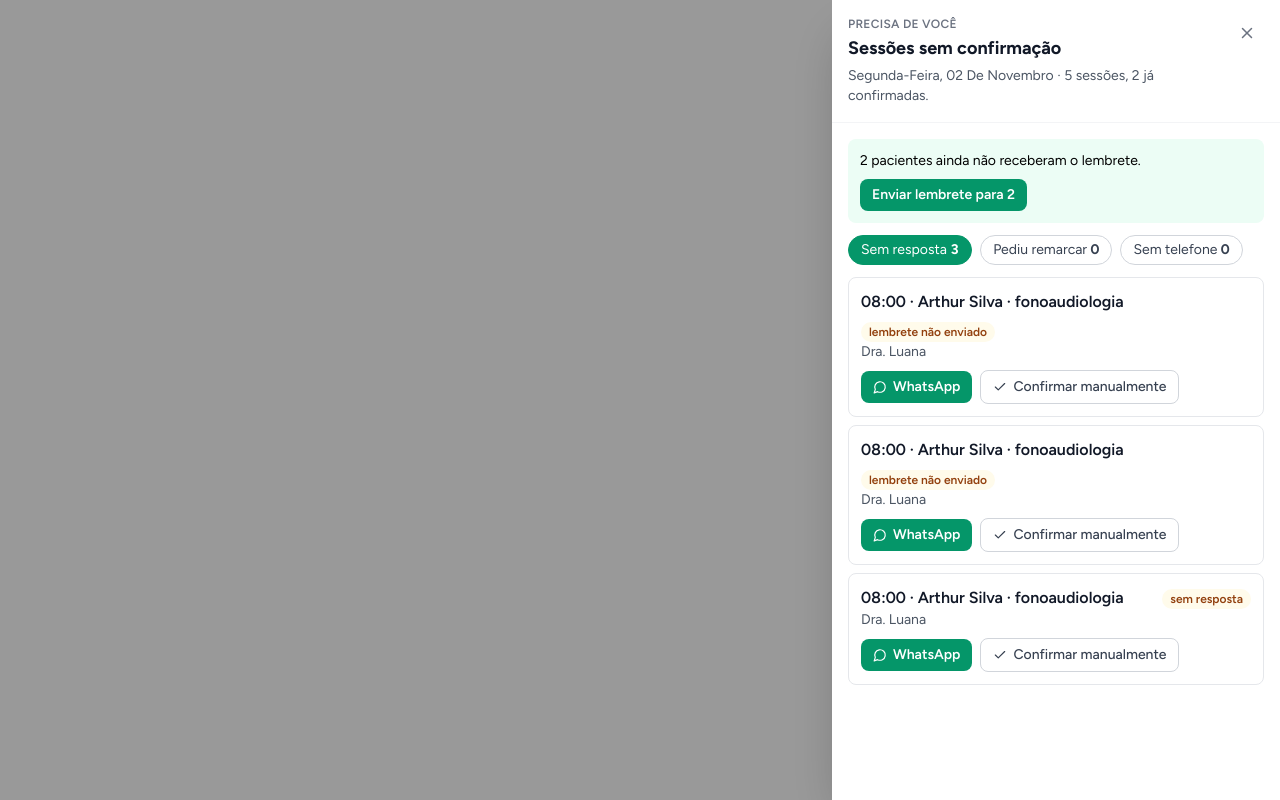
NextDayConfirmPanel › pede confirmação antes do lote e envia uma vez só
This screenshot has width=1280, height=800.
Click the button "Enviar lembrete para 2". click: (944, 195)
box: [860,179,1027,211]
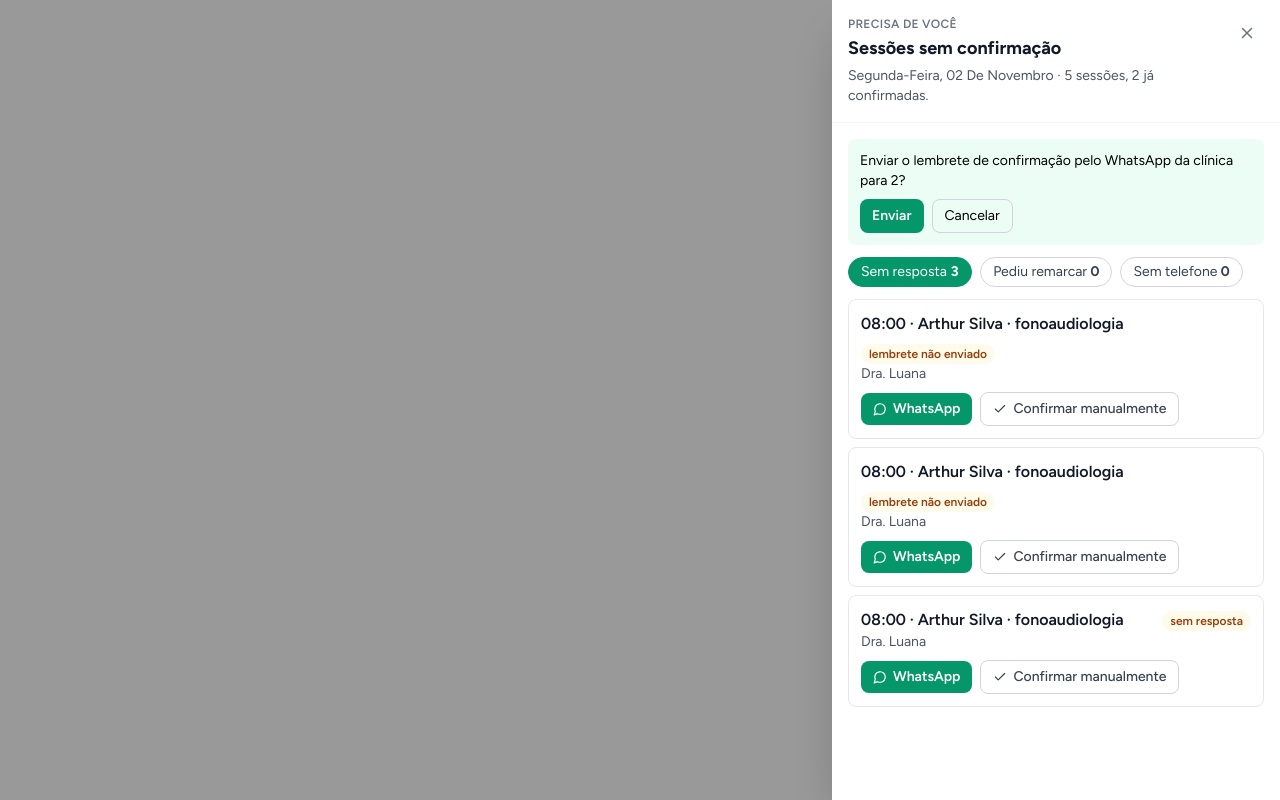
Click the button "Enviar". click: (892, 216)
box: [860,199,924,233]
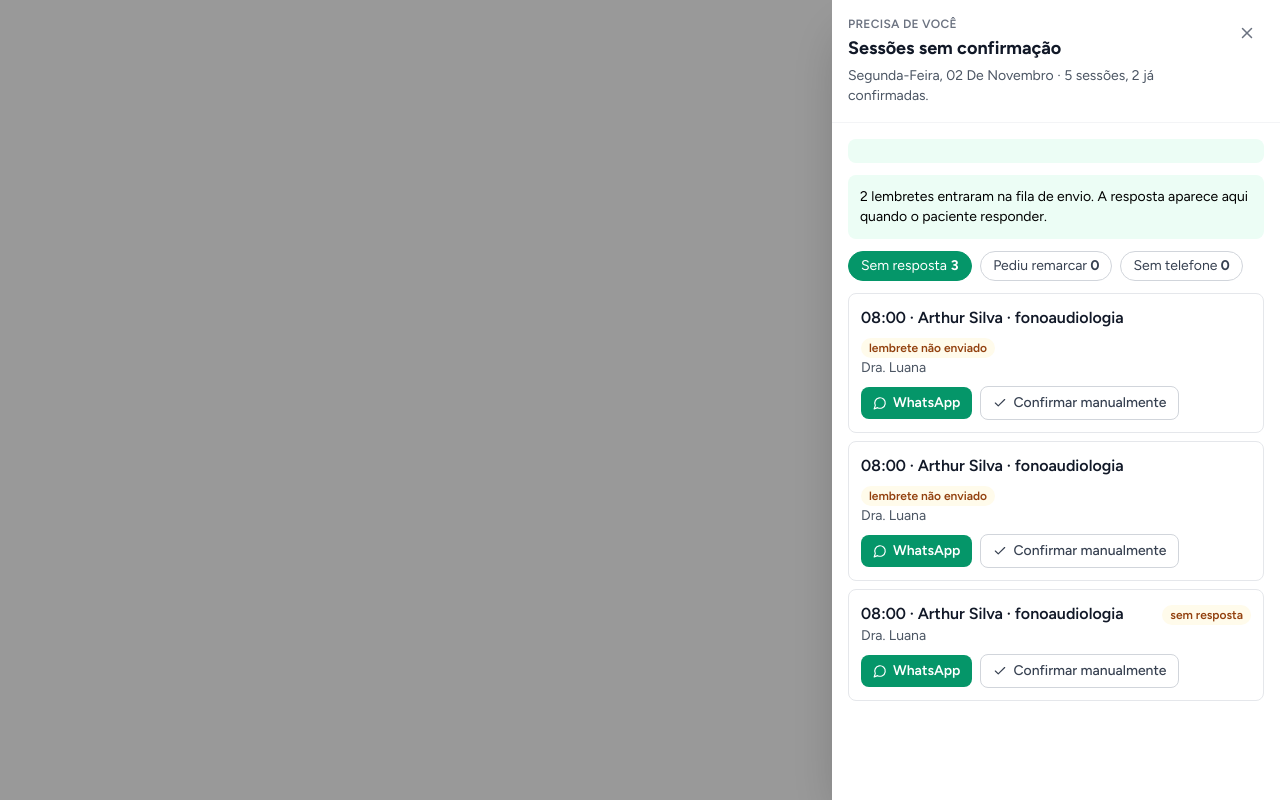
expect the message shows "2 lembretes entraram": met, box [848,175,1264,239]
